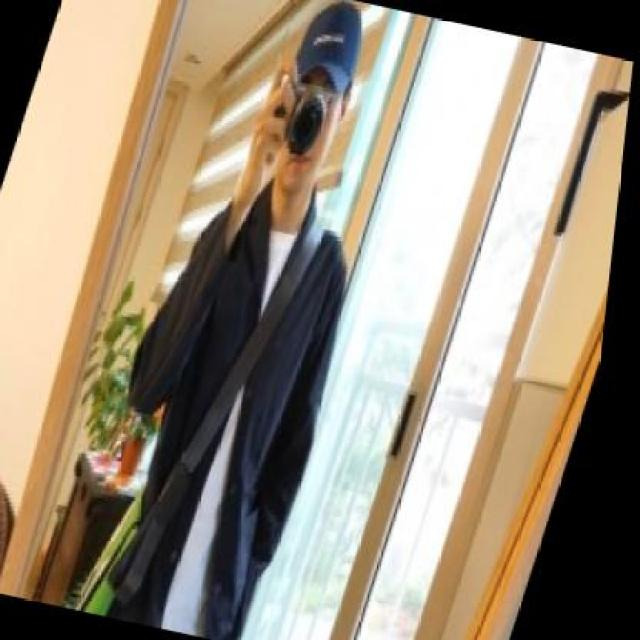hat: (281, 0, 377, 106)
